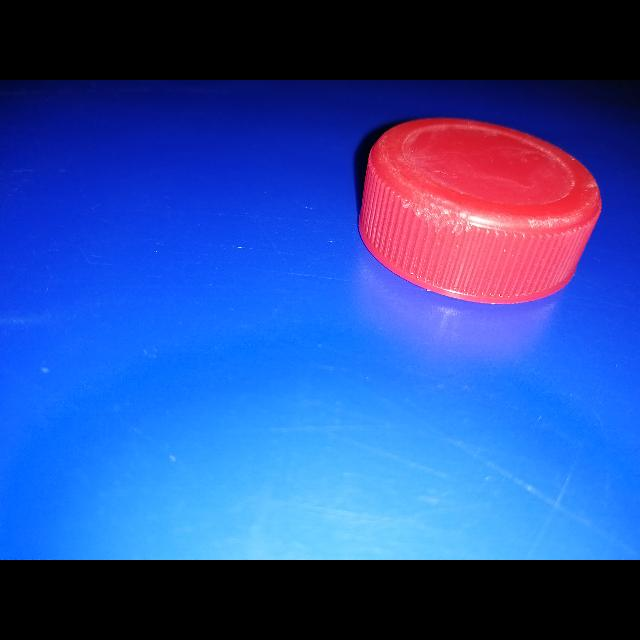plastic_bottle_cap: (356, 113, 602, 307)
